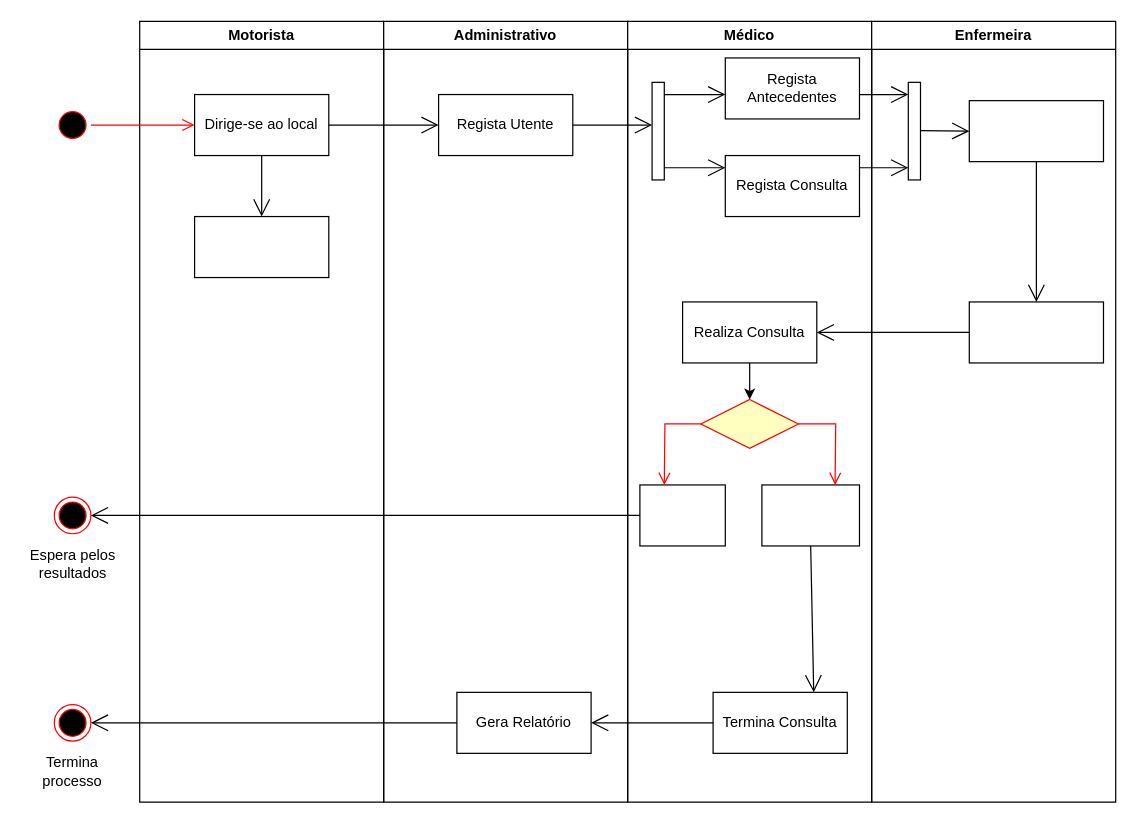
Image size: 1137x824. Some labels were removed from this diagram. Here are the shapes that lost their labels. From the top down, the centre of each, then its label:
[1035,130]: Examina Utente
[261,246]: Regista Despesas
[1035,332]: Recolhe Dados
[749,423]: Condition
[682,515]: Receita Exames
[810,515]: Receita Medicamento
